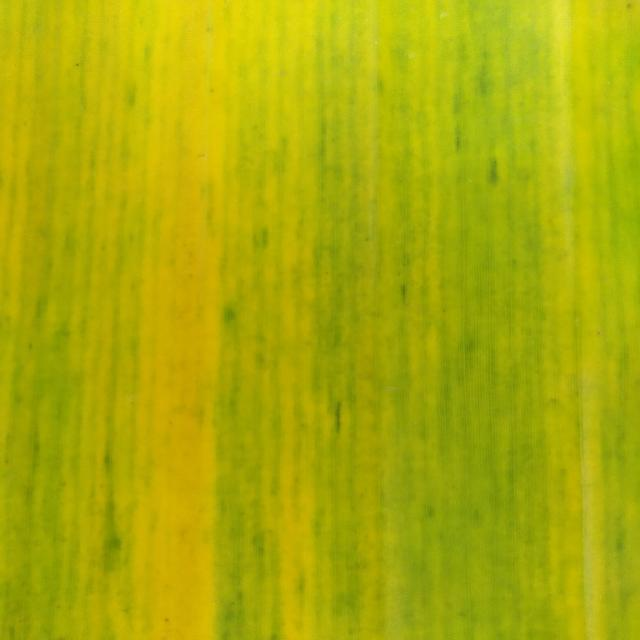Cordana: (3, 0, 640, 637)
